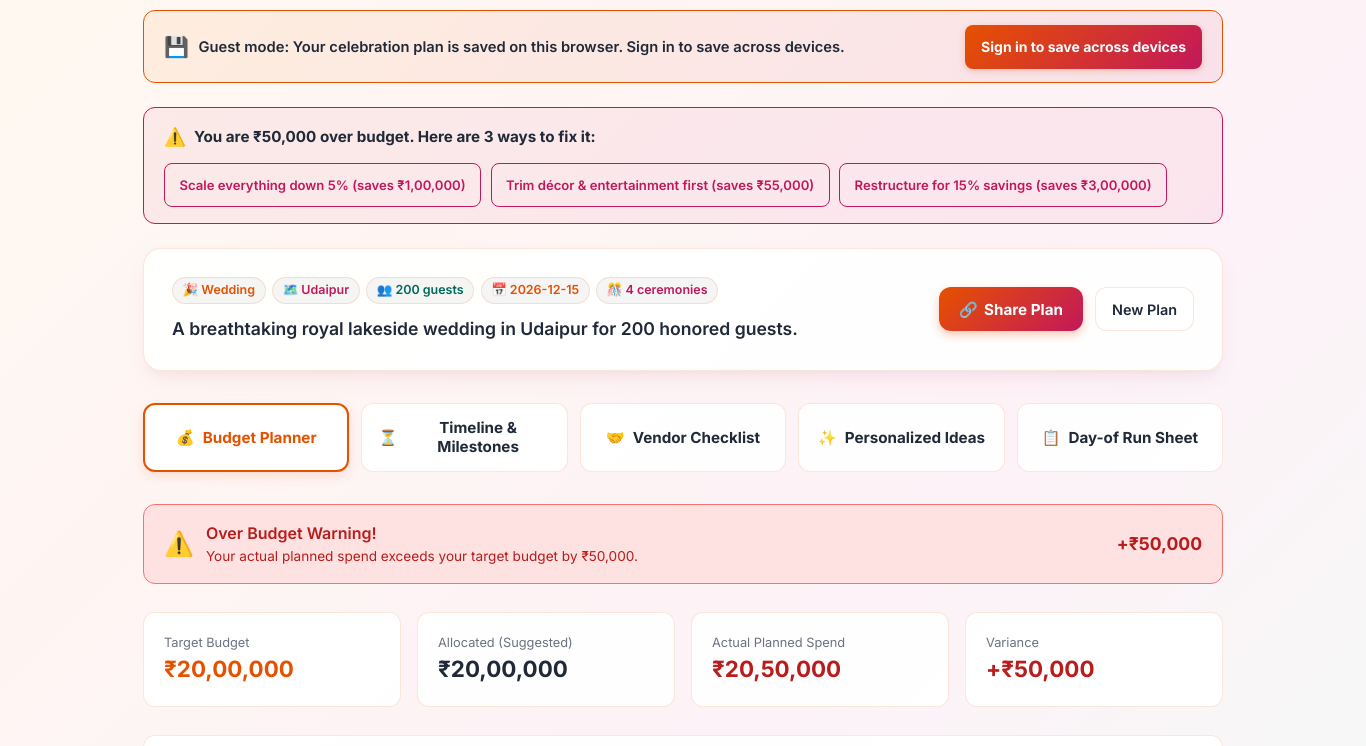
Test: Dashboard Component & Accessibility (vitest-axe) › switches to VendorsTab and checks zero axe accessibility violations
The width and height of the screenshot is (1366, 746).
Step 1. Click the tab "🤝 Vendor Checklist" → [683, 438], box [580,403,786,472]
(page scrolled)
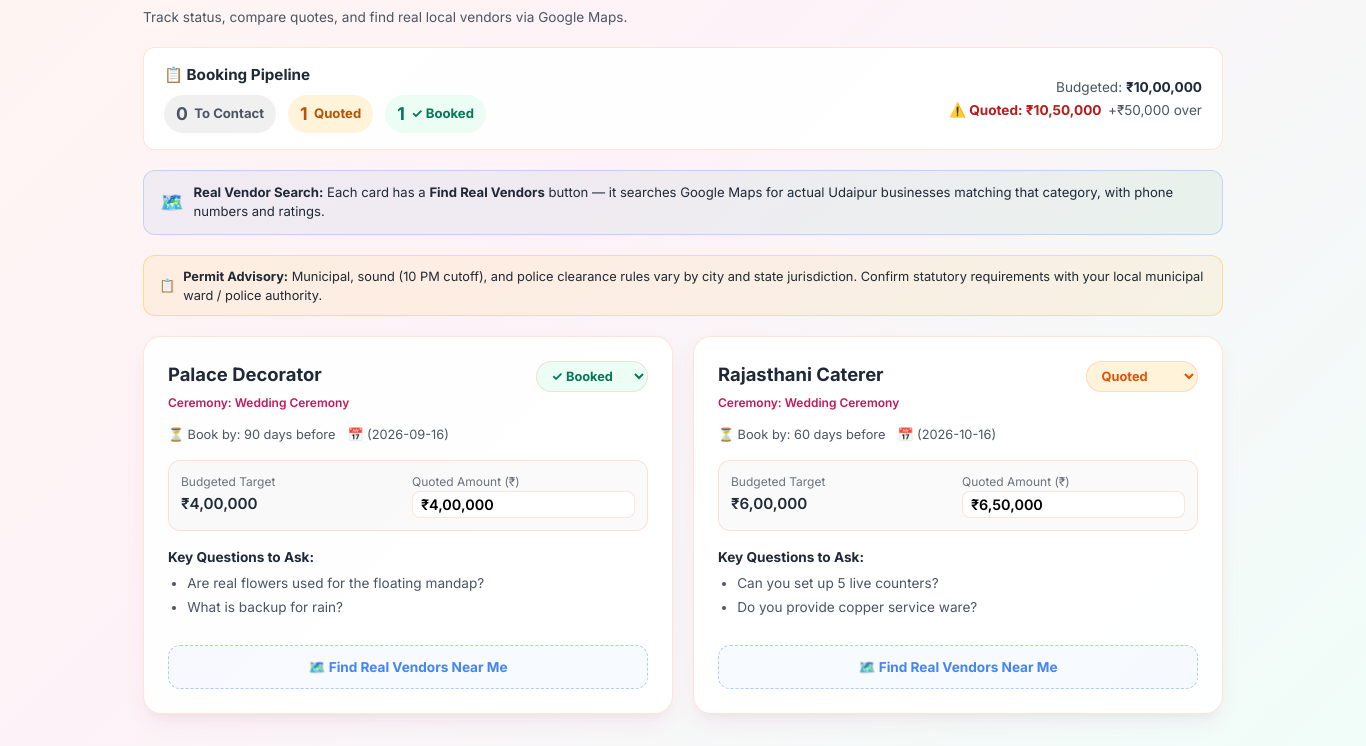
Expected: the heading "Palace Decorator" is shown, [168,363,322,385]
Expected: the list item "Are real flowers used for the floating mandap?" is shown, [187,575,484,591]
